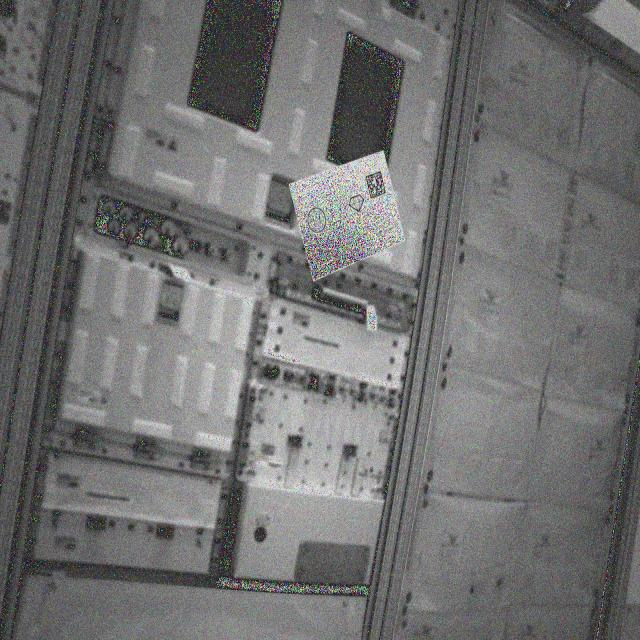coin: (307, 206, 329, 235)
diamond: (349, 193, 366, 214)
